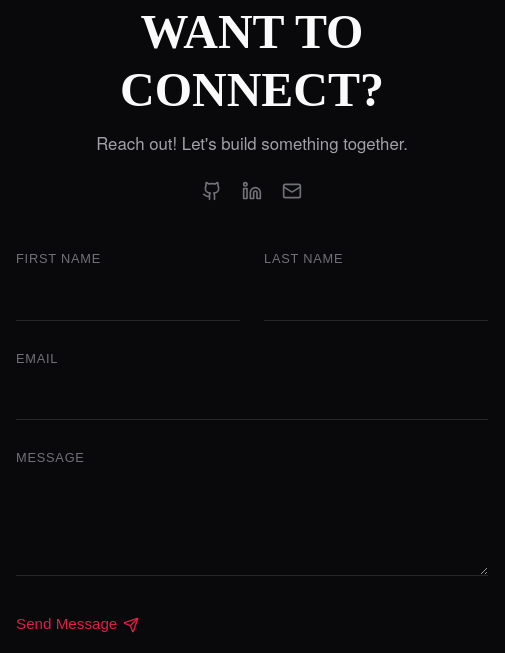
Test case: Contact component › disables submit button while sending
Type "Jane" into the field labelled "First Name" at (128, 299), box 16,278 -> 240,320
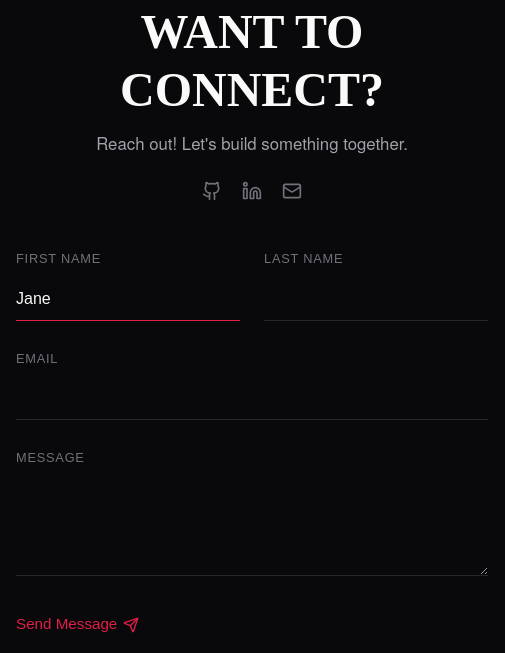
Type "Doe" into the field labelled "Last Name" at (376, 299), box 264,278 -> 488,320
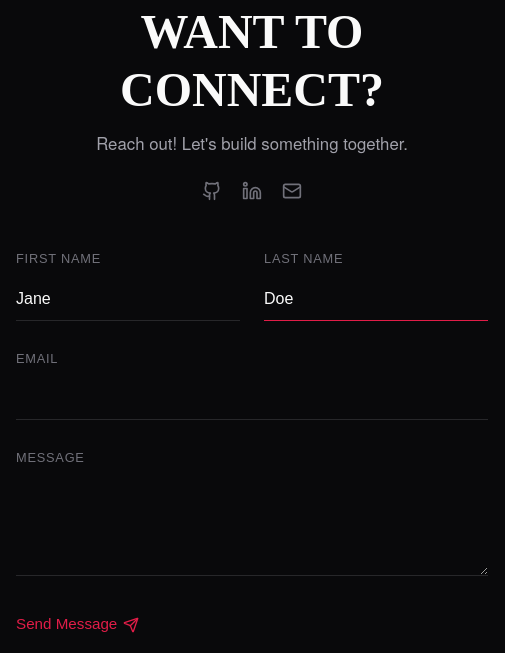
Type "jane@example.com" into the field labelled "Email" at (252, 398), box 16,377 -> 488,420
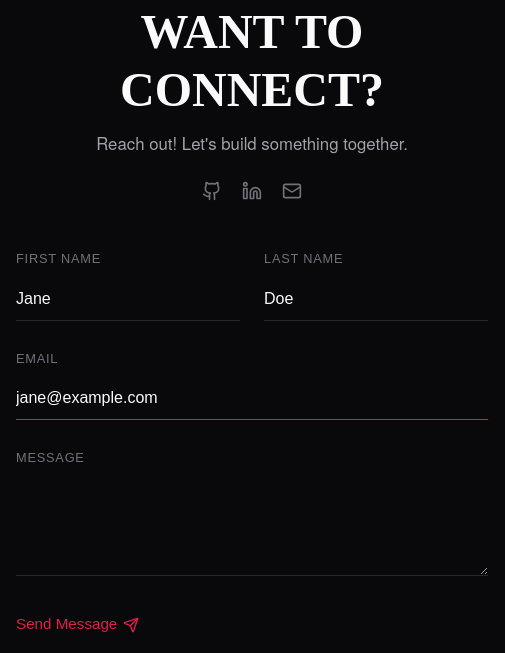
Type "Hello!" into the text box labelled "Message" at (252, 526), box 16,476 -> 488,576
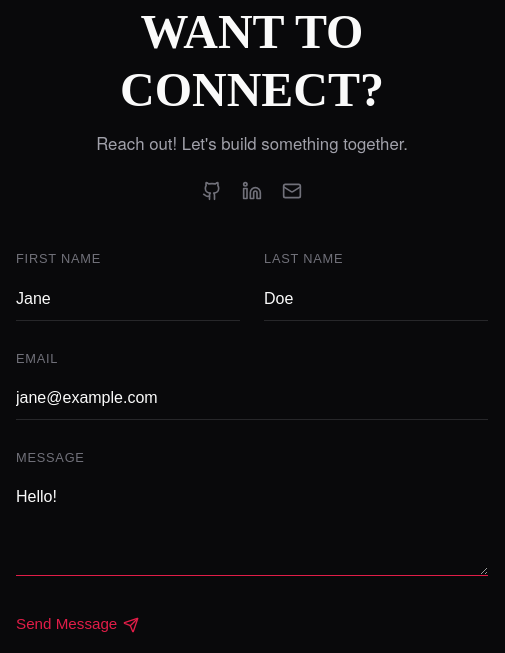
Click the button at (77, 625), box 16,612 -> 139,637
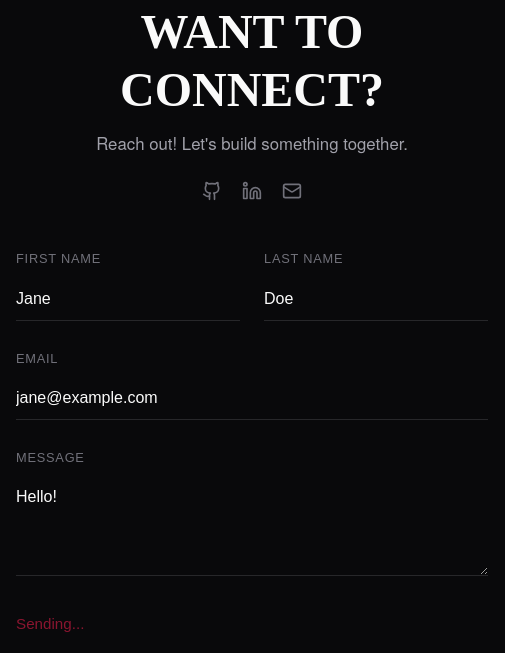
Result: the button is disabled at 16,612 -> 84,637
Result: the button reads "Sending..." at 16,612 -> 84,637
